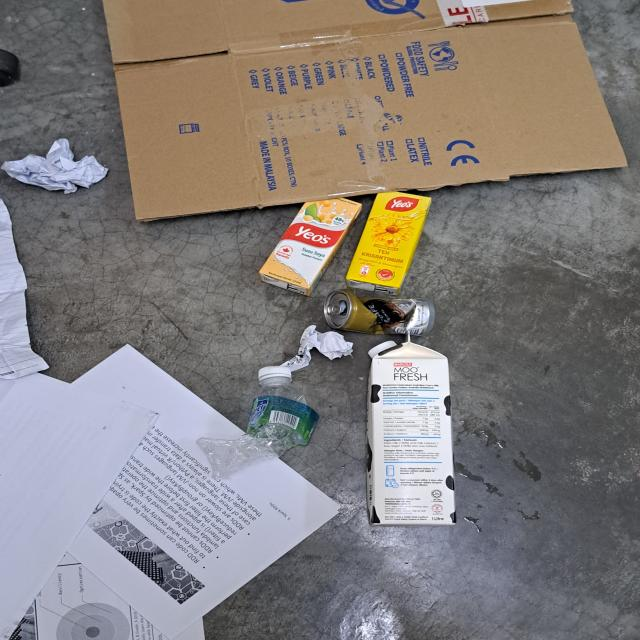can: (323, 288, 436, 336)
cardboard: (101, 0, 627, 227)
drink carton: (367, 330, 458, 526), (259, 195, 364, 296), (344, 192, 434, 296)
paper: (0, 343, 341, 640), (0, 200, 49, 378), (0, 140, 109, 194), (280, 326, 354, 372)
plastic bottle: (196, 380, 320, 479)
plastic bottle cap: (368, 340, 398, 358), (258, 366, 292, 380)
pop tab: (326, 303, 342, 315)
